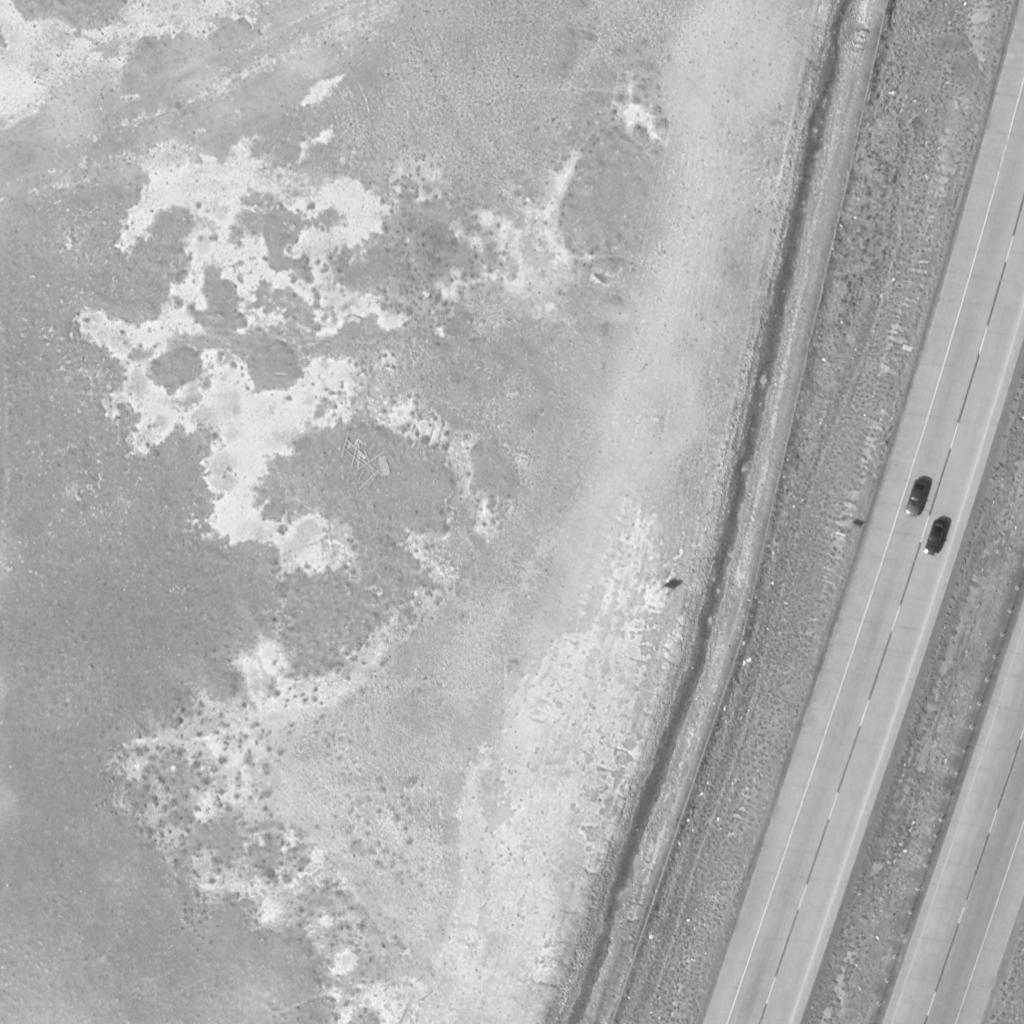vehicle: (905, 479, 931, 519), (925, 518, 949, 560)
